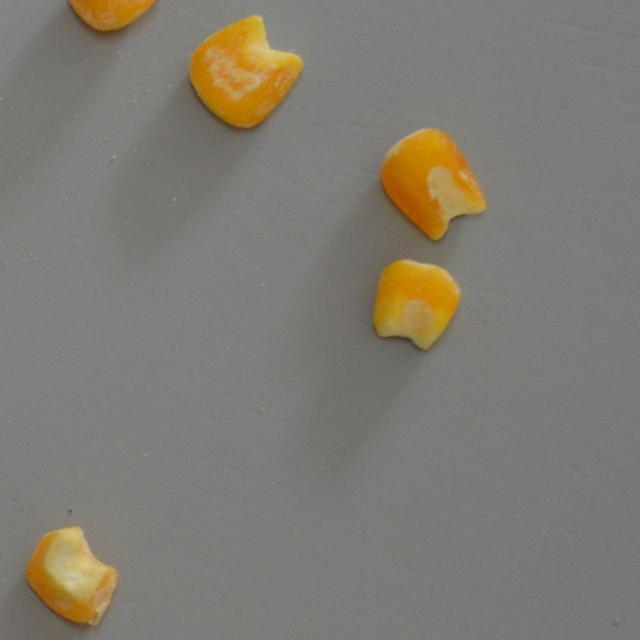no_canjicado: (372, 258, 462, 351)
pelicula: (186, 12, 304, 130), (379, 125, 486, 242), (24, 526, 118, 626), (62, 0, 163, 32)
